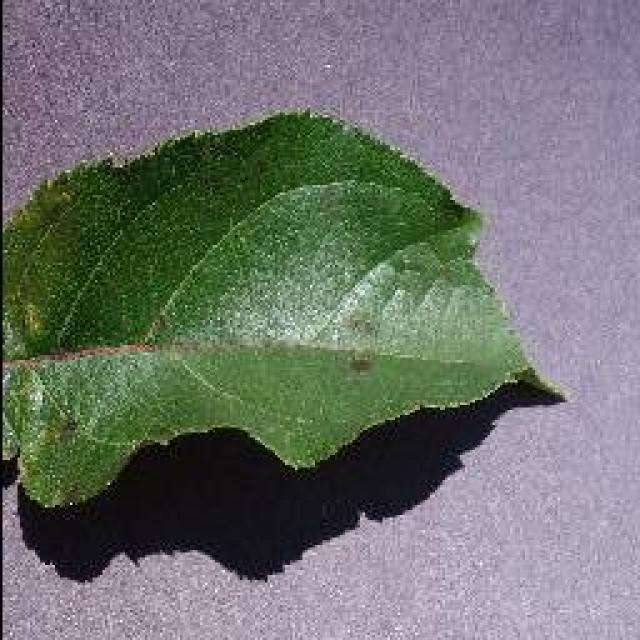apple scab disease: (0, 105, 568, 515)
